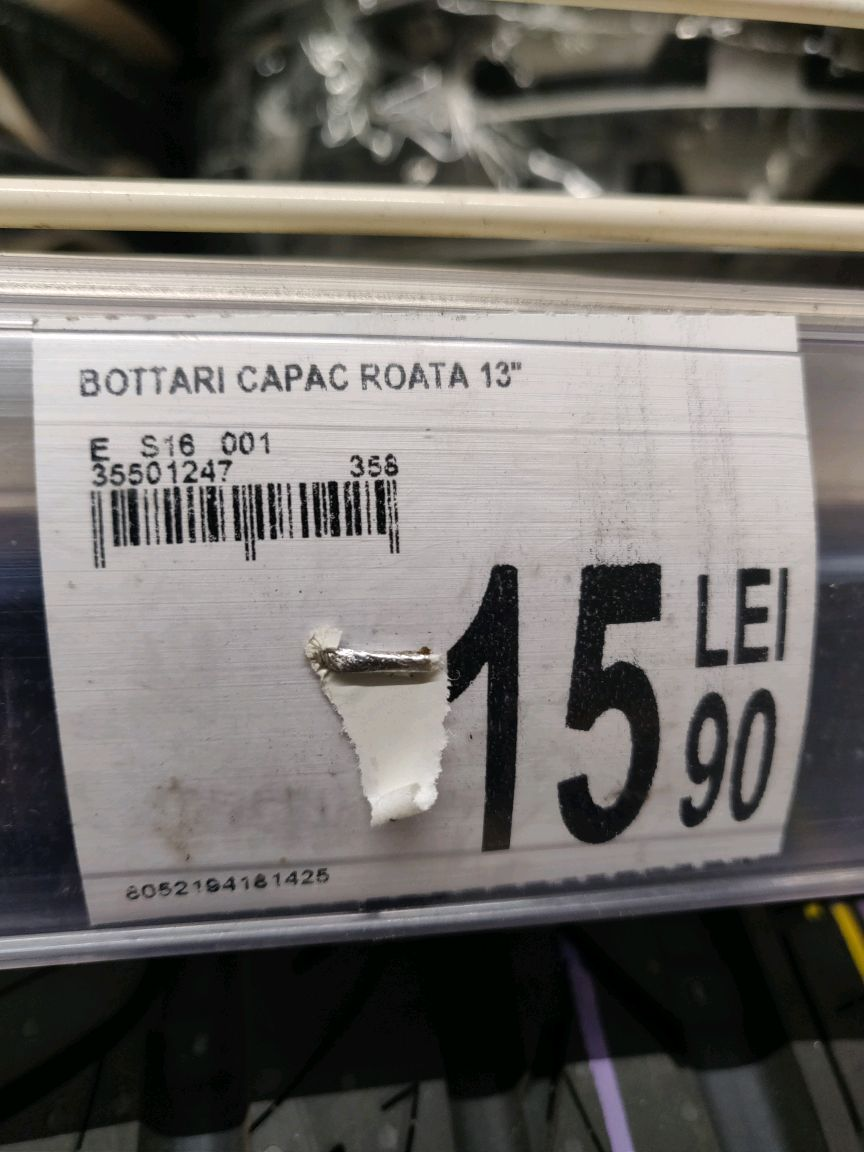price_bani: (669, 682, 800, 854)
price_lei: (443, 543, 673, 877)
price_tag: (22, 303, 820, 936)
product_id: (112, 857, 340, 907)
product_name: (58, 347, 559, 420)
